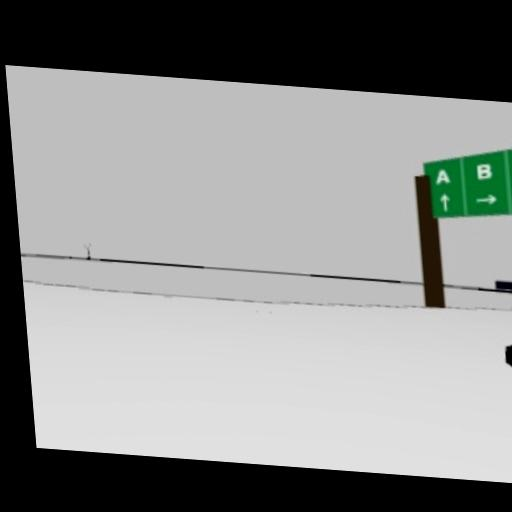A: (434, 168, 449, 184)
B: (476, 163, 492, 179)
Right: (474, 194, 497, 204)
Straight: (438, 193, 452, 210)
